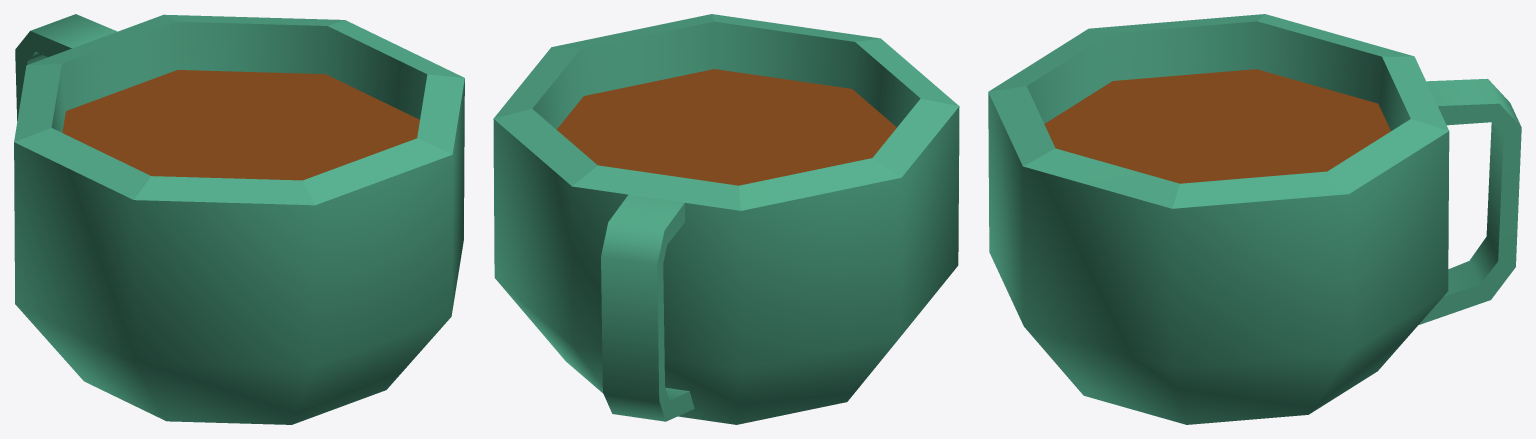
Rendered from Mug_2_B.fbx.
3 renders of one model, left to right at view 1: azimuth 30°, elevation 25°; view 2: azimuth 150°, elevation 25°; view 3: azimuth 270°, elevation 25°, orthographic.
Visible parts, largest first — view 1: Mug_2_B; view 2: Mug_2_B; view 3: Mug_2_B.
Part boxes in pixels (x1,y1,x2,y2): Mug_2_B: [14, 14, 464, 424]; Mug_2_B: [493, 14, 959, 424]; Mug_2_B: [988, 14, 1521, 424].
Size of the model in its own units: 14.83 by 9.06 by 17.16.
